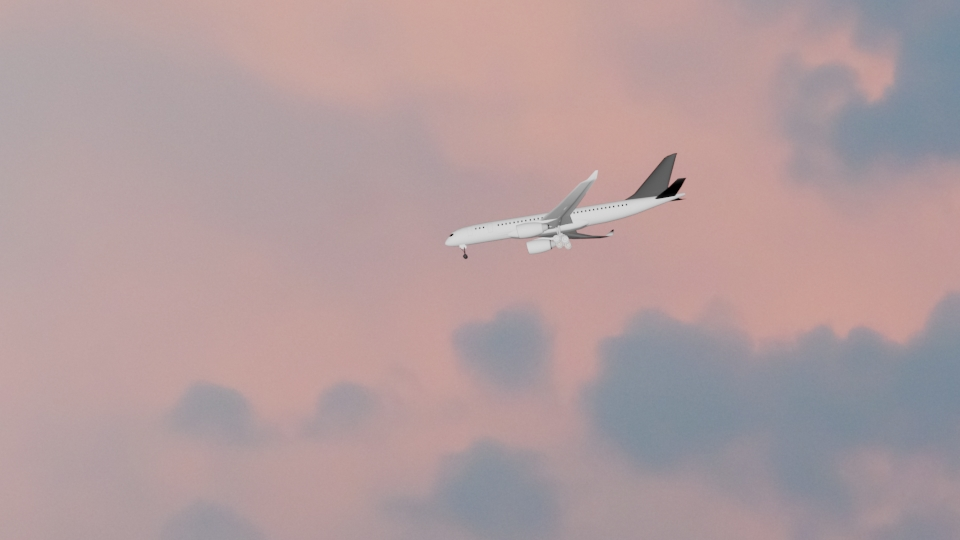plane: (442, 151, 689, 260)
